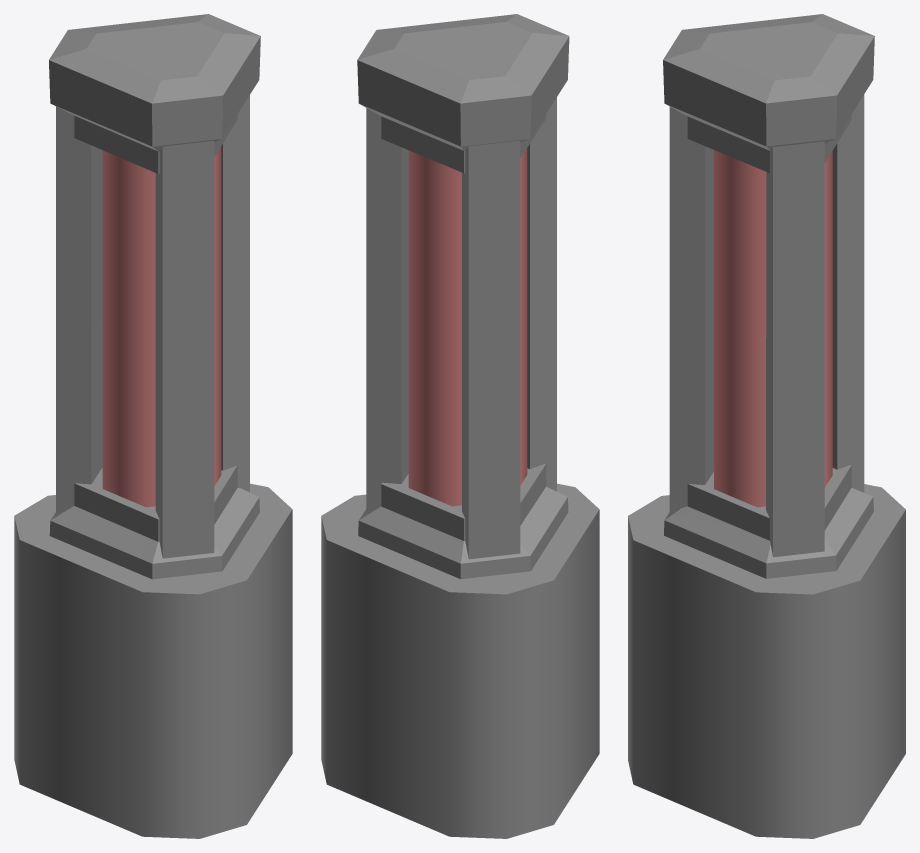
Rendered from S_Envi_Fyz_Show_03b.gltf.
3 renders of one model, left to right at view 1: azimuth 30°, elevation 25°; view 2: azimuth 150°, elevation 25°; view 3: azimuth 270°, elevation 25°, orthographic.
Visible parts, largest first — view 1: S_Envi_Fyz_Show_03b; view 2: S_Envi_Fyz_Show_03b; view 3: S_Envi_Fyz_Show_03b.
Boxes of the visible parts, left/top/right/bottom form: S_Envi_Fyz_Show_03b: left=14, top=14, right=292, bottom=838; S_Envi_Fyz_Show_03b: left=321, top=14, right=599, bottom=838; S_Envi_Fyz_Show_03b: left=628, top=14, right=905, bottom=838.
Bounding box in the file's own units: 0.0732 × 0.2117 × 0.0733.
